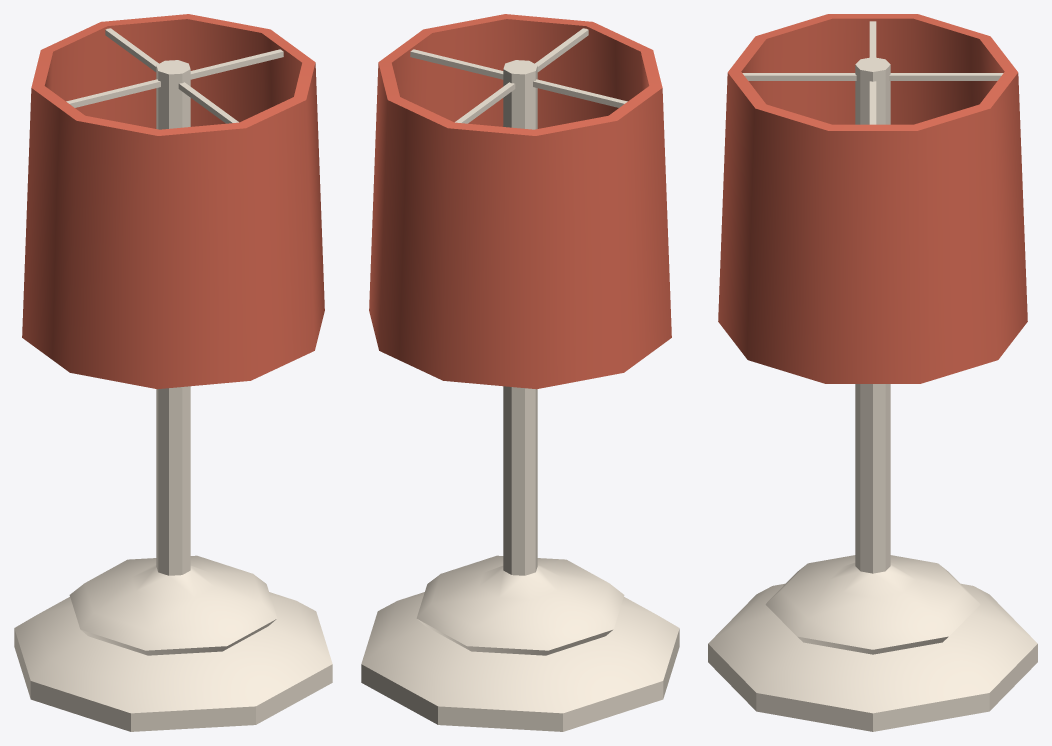
The model's file is lamp_a.glb.
3 renders of one model, left to right at view 1: azimuth 30°, elevation 25°; view 2: azimuth 150°, elevation 25°; view 3: azimuth 270°, elevation 25°, orthographic.
Parts seen in each view (by area): view 1: body; view 2: body; view 3: body.
Boxes of the visible parts, <box> form: body: <box>14,14,332,731</box>; body: <box>361,14,679,731</box>; body: <box>708,14,1037,731</box>.
Bounding box in the file's own units: 0.26 × 0.52 × 0.26.
